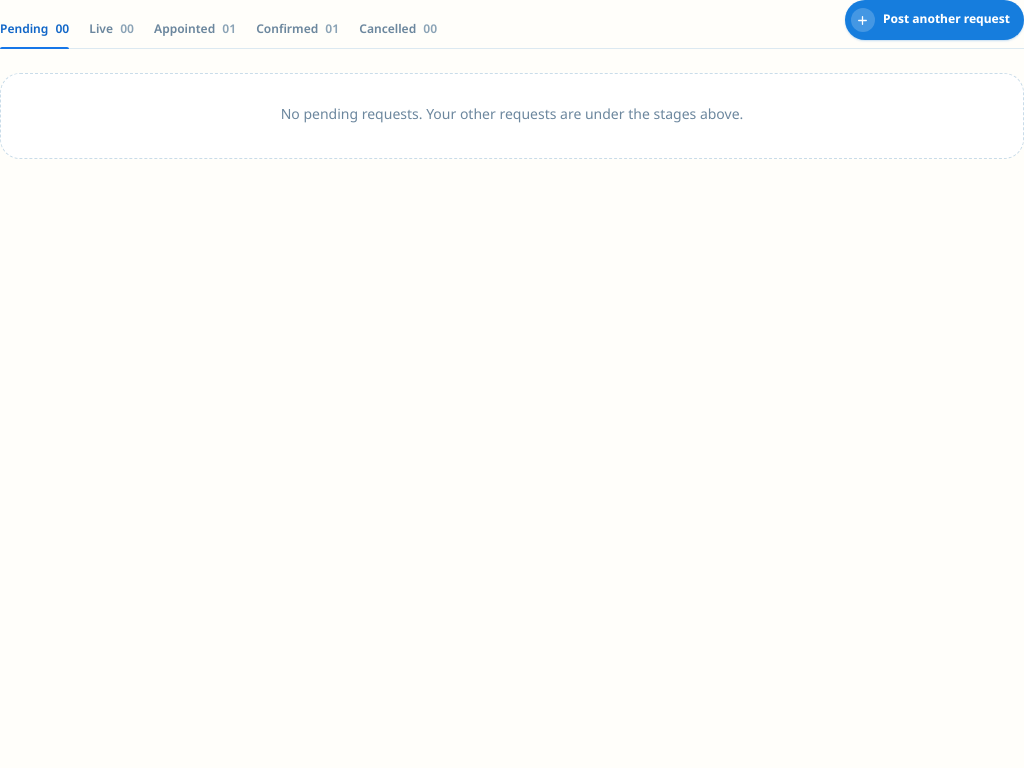
Test: asking an Admin to cancel or remove, from the Posted jobs dialog › offers Rate Tutor once Confirmed, and not before
The width and height of the screenshot is (1024, 768).
Click the tab "Appointed 01".
click(195, 32)  # box x1=154 y1=16 x2=236 y2=48
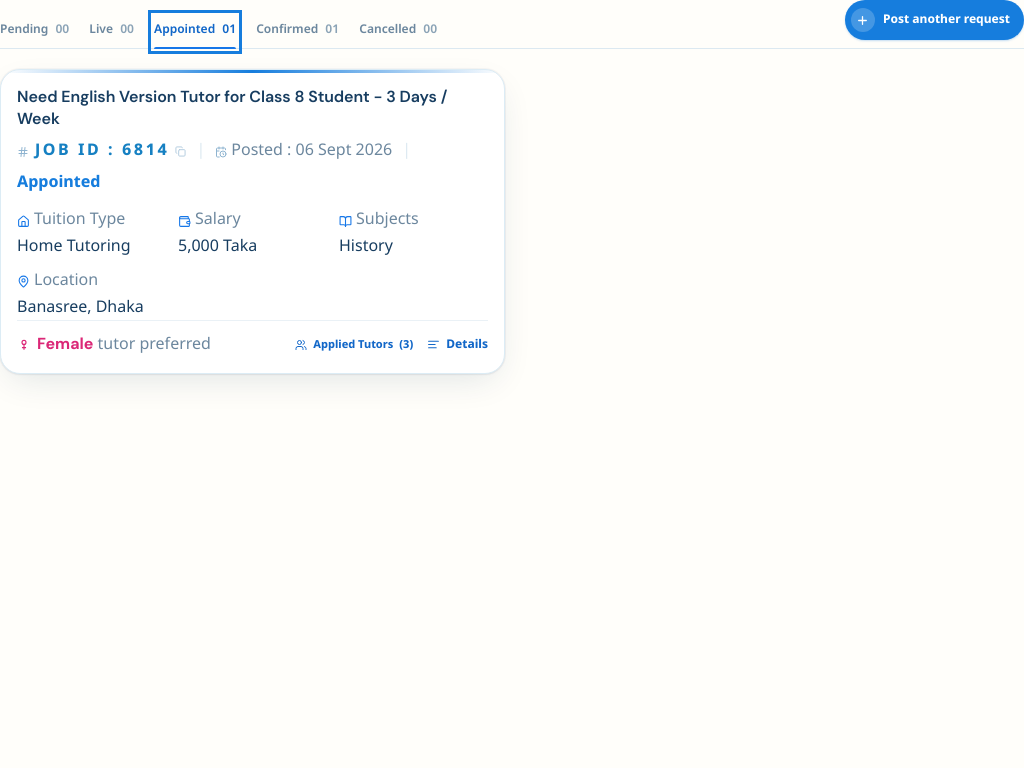
Click the button named "Job ID 6814".
click(252, 221)  # box x1=0 y1=69 x2=505 y2=374
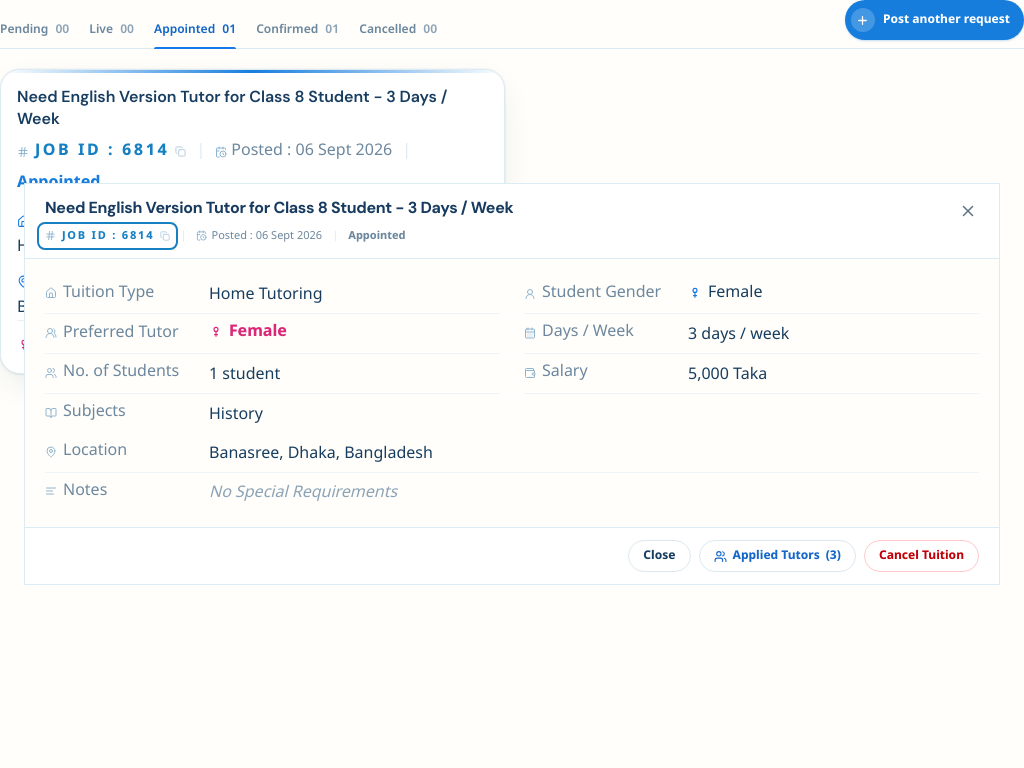
Expected: the button "Rate Tutor" is not shown
Click the button named "Close".
click(968, 211)  # box x1=953 y1=196 x2=983 y2=226
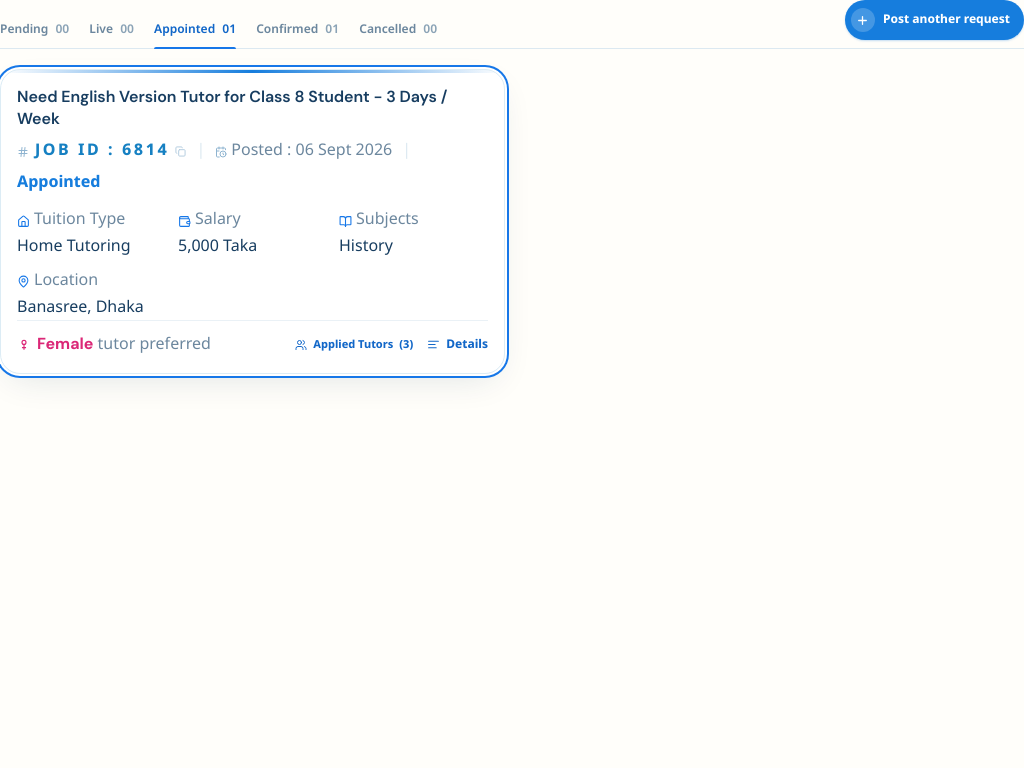
Click the tab "Confirmed 01".
click(298, 32)  # box x1=256 y1=16 x2=339 y2=48
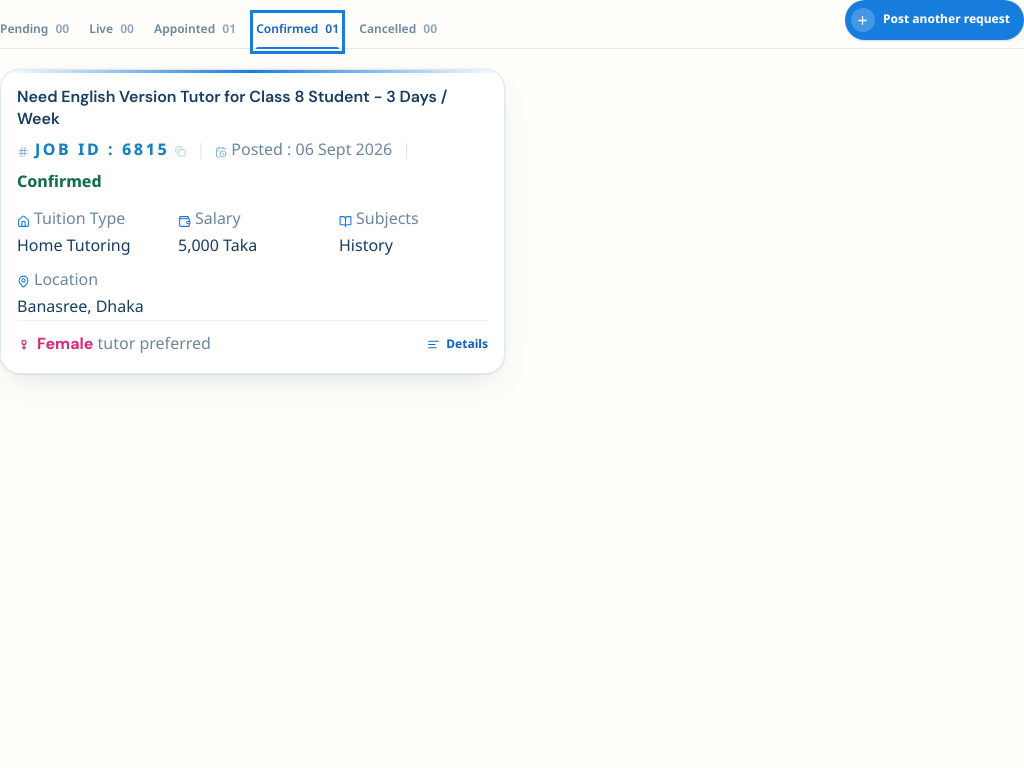
Click the button named "Job ID 6815".
click(252, 221)  # box x1=0 y1=69 x2=505 y2=374
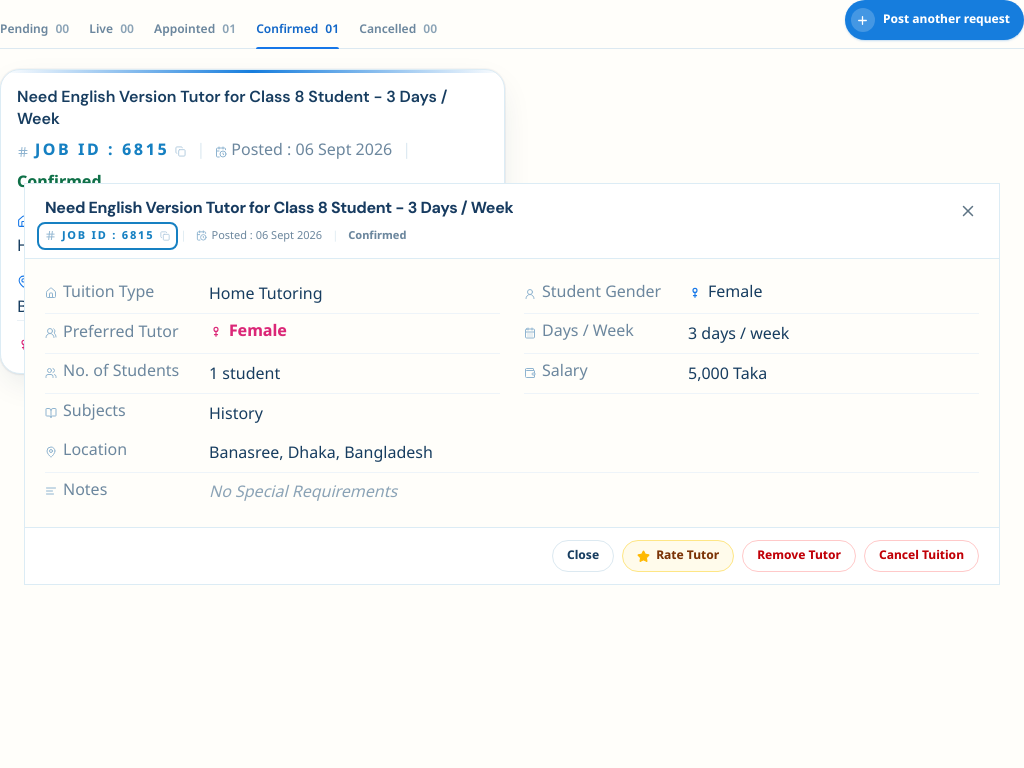
Click the button "Rate Tutor".
click(678, 556)  # box x1=622 y1=540 x2=734 y2=572
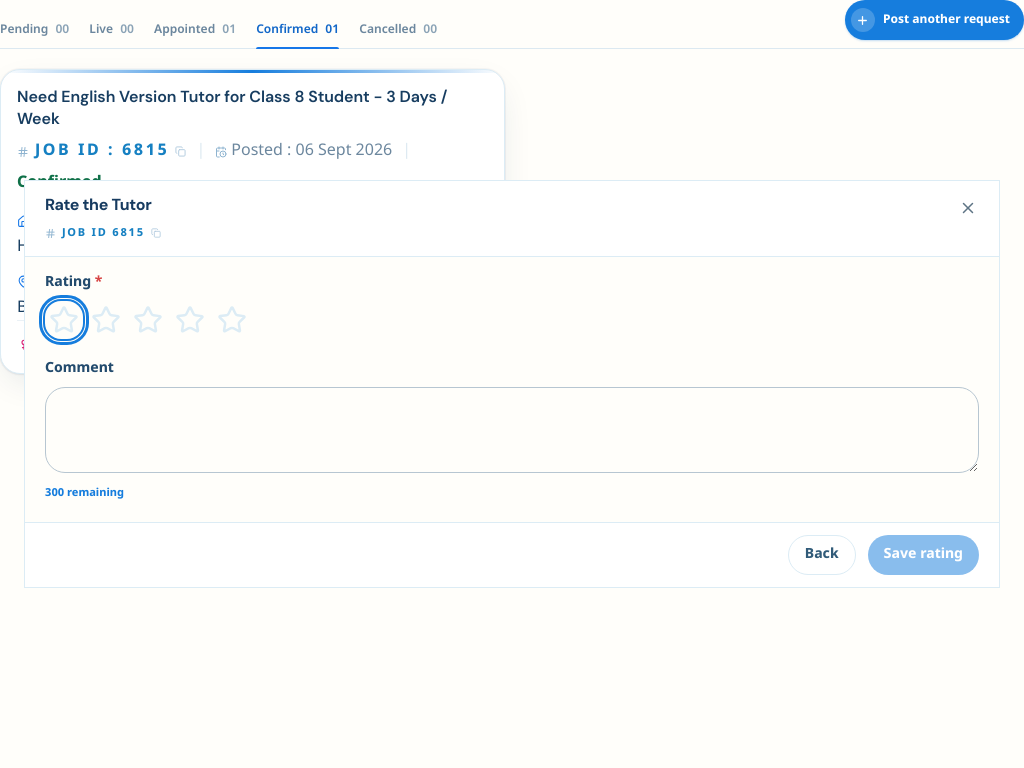
Result: the dialog "Rate the Tutor" is shown at x1=24 y1=180 x2=1000 y2=588
